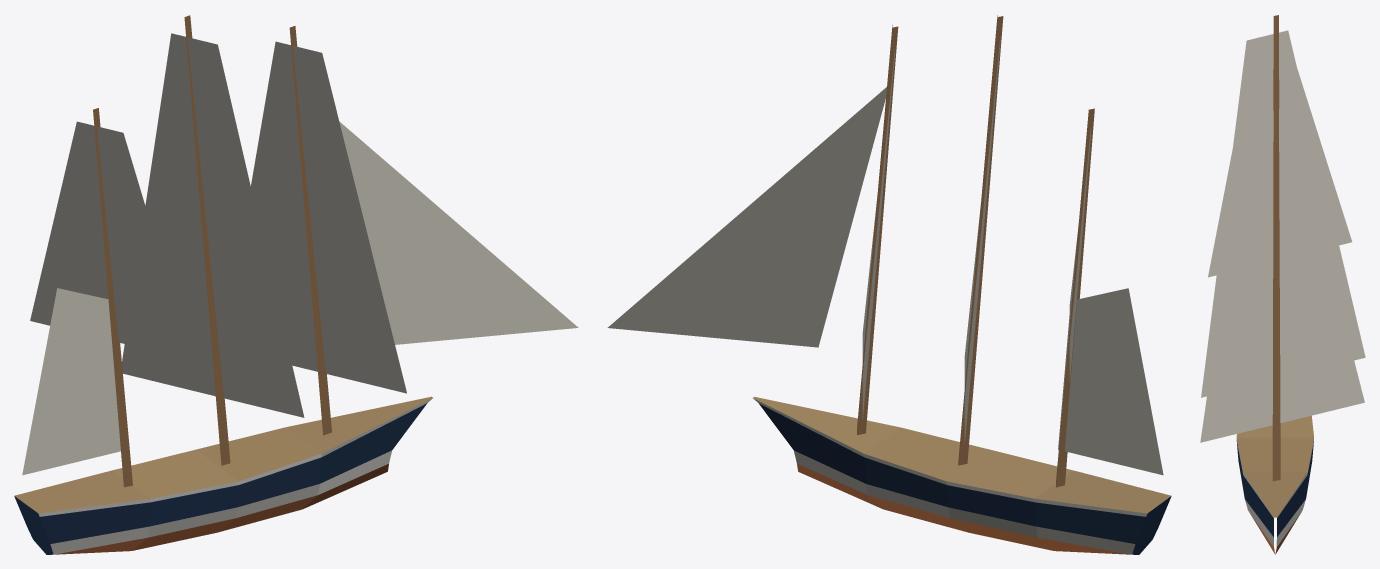
Rendered from titan_usdc_lod.glb.
3 views of the same model, side by side, from view 1: azimuth 30°, elevation 25°; view 2: azimuth 150°, elevation 25°; view 3: azimuth 270°, elevation 25° (orthographic). The views are drawn at different scales.
Parts seen in each view (by area): view 1: lod; view 2: lod; view 3: lod.
Part boxes in pixels (box(x1,y1,x2,y2)): lod: box(14, 15, 578, 554); lod: box(607, 15, 1171, 554); lod: box(1200, 15, 1365, 554).
Bounding box in the file's own units: 41.1 × 37.04 × 11.83.
